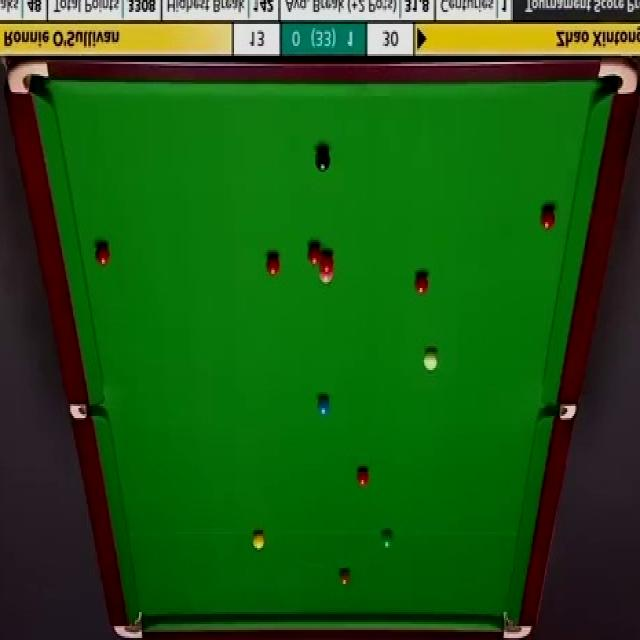black-ball: (314, 148, 332, 173)
blue-ball: (317, 397, 330, 416)
brown-ball: (338, 569, 350, 587)
green-ball: (380, 530, 393, 551)
pink-ball: (318, 266, 332, 282)
red-ball: (93, 243, 111, 266), (306, 243, 322, 266), (539, 209, 556, 230), (265, 254, 281, 276), (415, 272, 428, 295), (356, 466, 369, 487), (319, 253, 334, 269)
white-ball: (423, 349, 439, 374)
yellow-ball: (252, 532, 264, 550)
